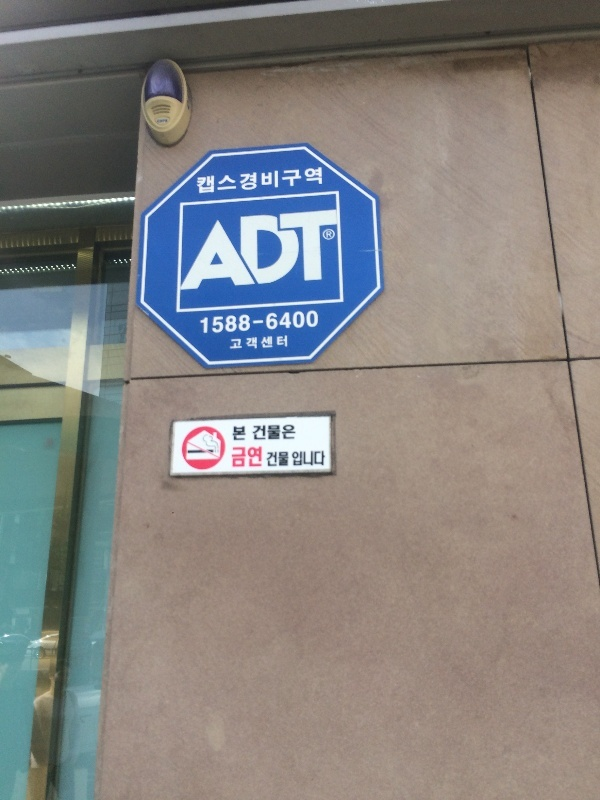text: (225, 208, 240, 294), (241, 208, 256, 294), (257, 208, 272, 294), (273, 208, 288, 294), (289, 208, 304, 294), (305, 208, 320, 294), (321, 208, 336, 294), (217, 208, 224, 294), (209, 167, 224, 195), (225, 167, 240, 195), (241, 167, 256, 195), (257, 167, 272, 195), (273, 167, 288, 195), (289, 167, 304, 195), (305, 167, 320, 195), (209, 310, 224, 336), (225, 310, 240, 336), (241, 310, 256, 336), (257, 310, 272, 336), (273, 310, 288, 336), (289, 310, 304, 336), (305, 310, 319, 336), (197, 167, 208, 195), (241, 447, 256, 467), (273, 451, 289, 467), (257, 424, 272, 441), (273, 424, 288, 441), (305, 451, 320, 467), (241, 335, 256, 350), (257, 335, 272, 350), (273, 335, 288, 350), (200, 310, 208, 336), (292, 451, 304, 467), (232, 447, 240, 467), (231, 335, 240, 350), (289, 424, 296, 441), (257, 447, 262, 467), (234, 426, 240, 441), (337, 208, 338, 294), (267, 451, 272, 467), (326, 231, 336, 239), (241, 426, 246, 441), (321, 451, 325, 467), (321, 167, 323, 195), (253, 424, 256, 441)
